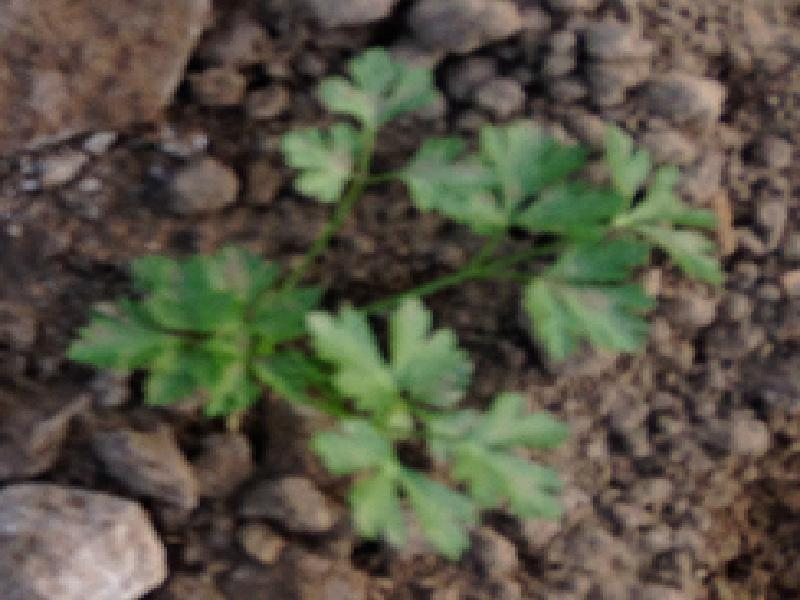radish: (65, 55, 749, 544)
